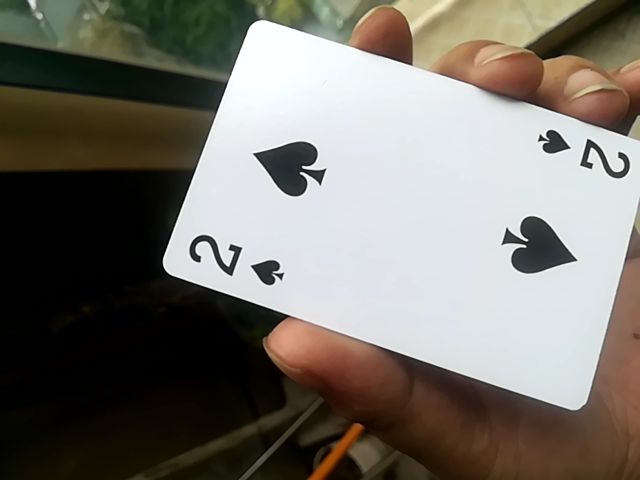ht 2: (164, 23, 639, 414)
